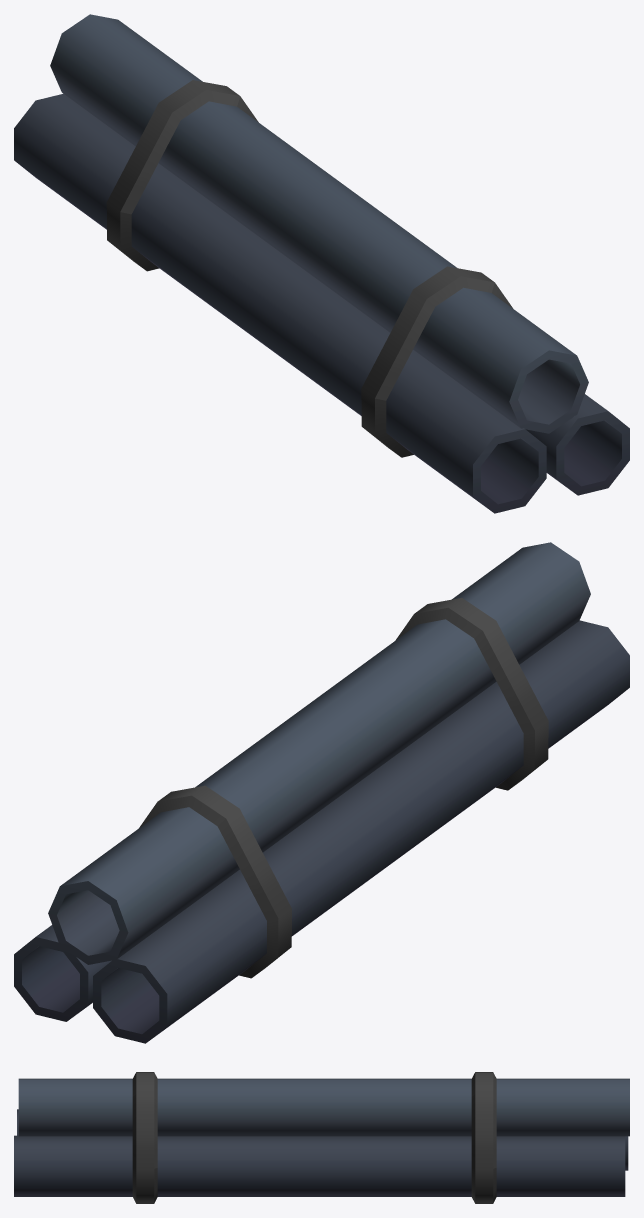
Rendered from Pipes_C_1_3.fbx.
3 views of the same model, one above another, from view 1: azimuth 30°, elevation 25°; view 2: azimuth 150°, elevation 25°; view 3: azimuth 270°, elevation 25° (orthographic). The views are drawn at different scales.
Parts seen in each view (by area): view 1: Pipes_C_1_3; view 2: Pipes_C_1_3; view 3: Pipes_C_1_3.
Boxes of the visible parts, <box> form: Pipes_C_1_3: <box>14,14,629,513</box>; Pipes_C_1_3: <box>14,542,629,1043</box>; Pipes_C_1_3: <box>14,1072,629,1203</box>.
Size of the model in its own units: 119 by 111 by 555.
